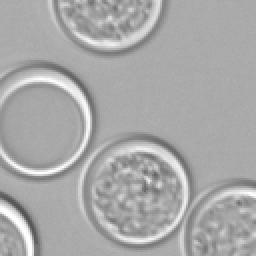picoshell: (86, 140, 188, 244), (0, 66, 92, 174), (48, 0, 164, 52), (182, 184, 254, 254), (0, 194, 34, 254)
